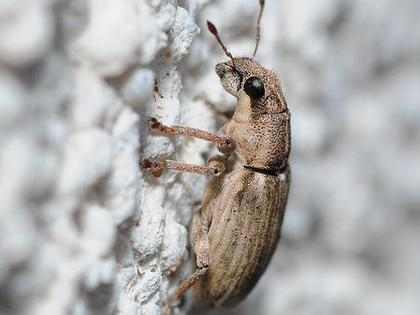weevils: (92, 0, 332, 315)
